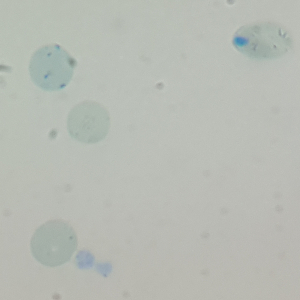erythrocyte: (230, 20, 294, 60), (66, 99, 112, 145)
punctate reticulocyte: (27, 42, 77, 93), (28, 219, 79, 269)
